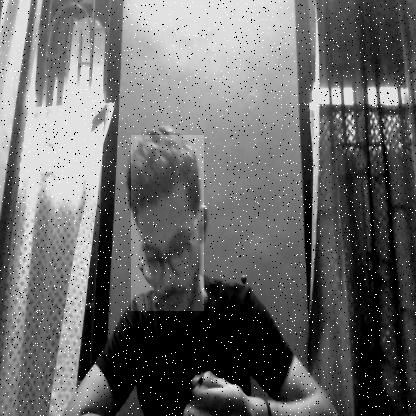Distracted: (131, 135, 204, 311)
